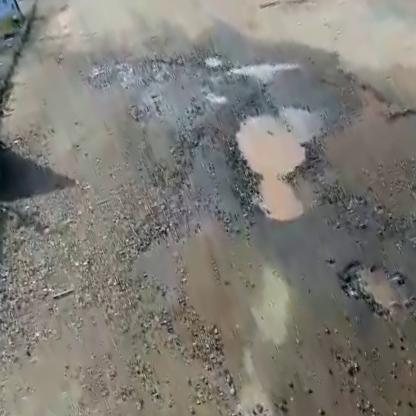pothole: (217, 87, 354, 227), (337, 245, 416, 330), (229, 44, 299, 94)
